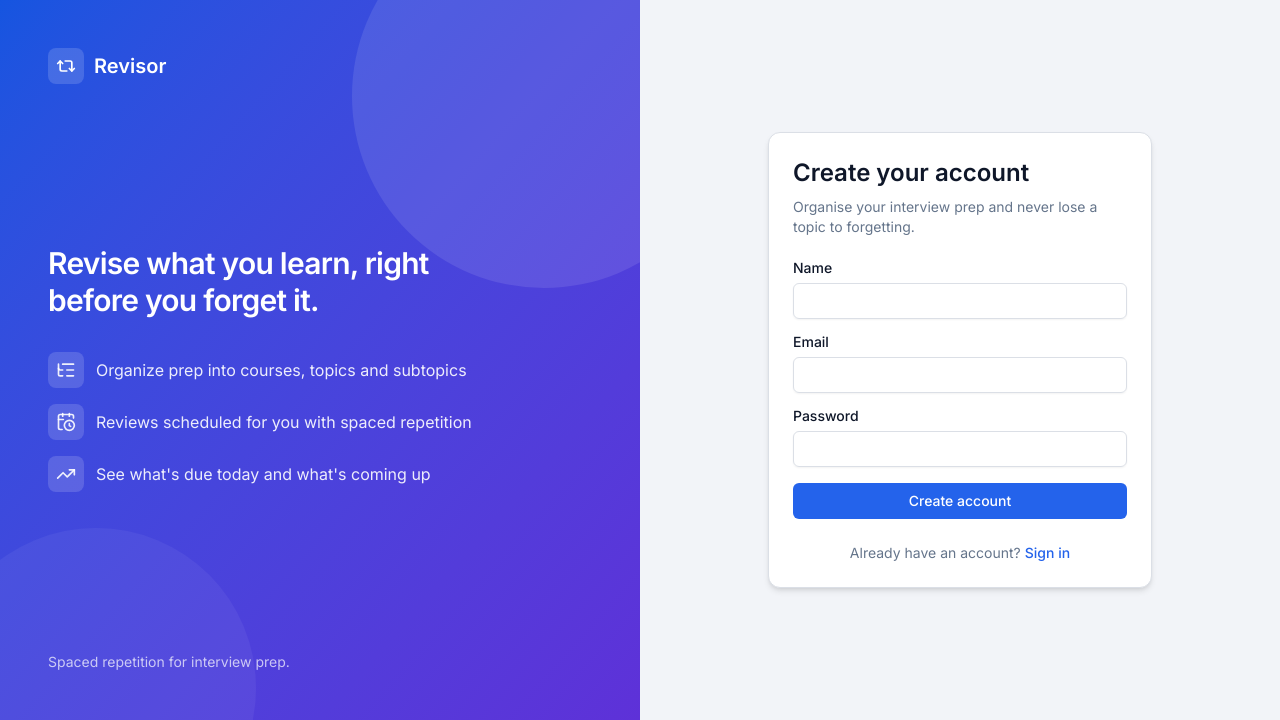
Test case: SignupPage › maps server-side validation errors onto their fields
In the field labelled "Name": point(960, 301) x1=793 y1=283 x2=1127 y2=319, type "Ann"
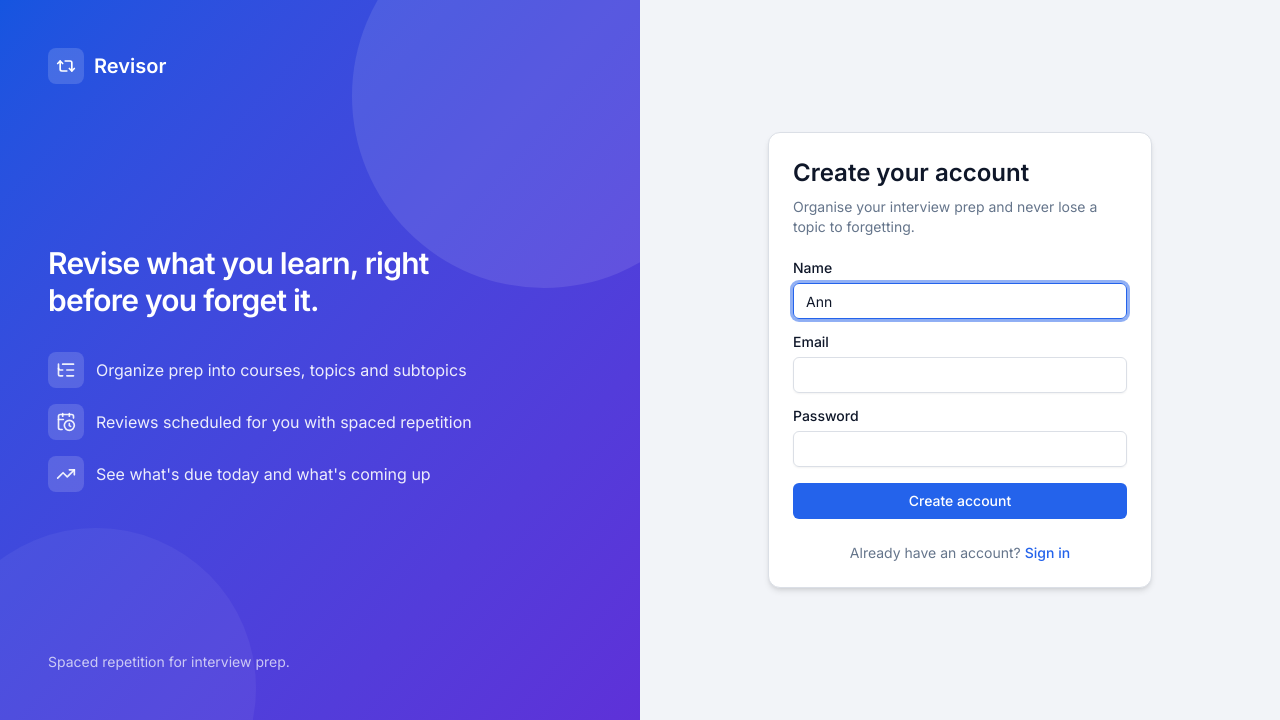
In the field labelled "Email": point(960, 375) x1=793 y1=357 x2=1127 y2=393, type "ann@example.com"
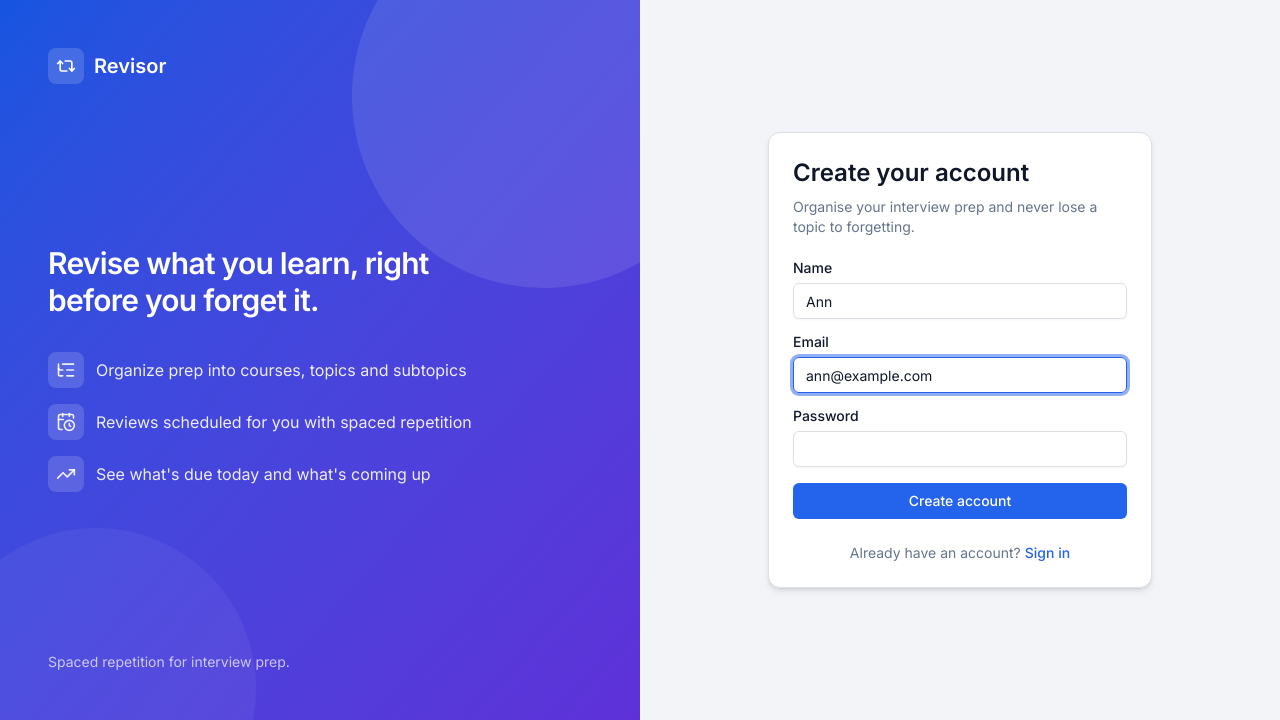
In the password field labelled "Password": point(960, 449) x1=793 y1=431 x2=1127 y2=467, type "correct-horse"
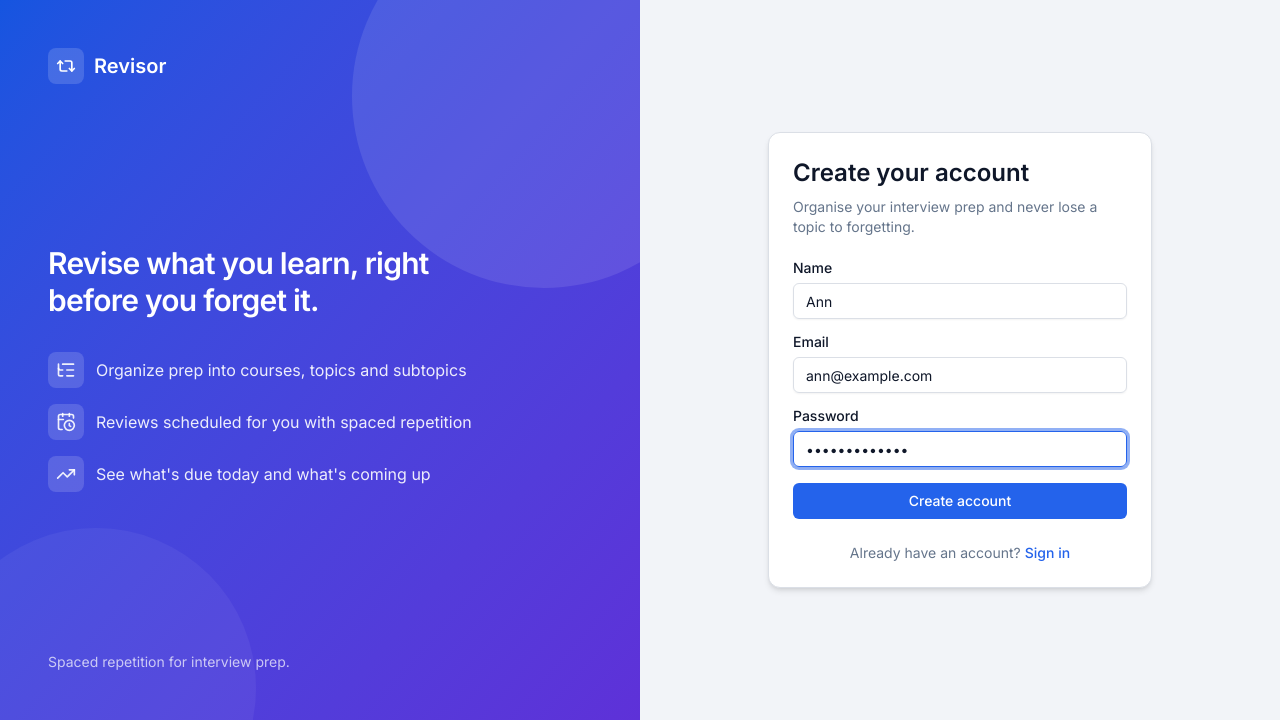
Click the button "Create account": point(960, 501) x1=793 y1=483 x2=1127 y2=519
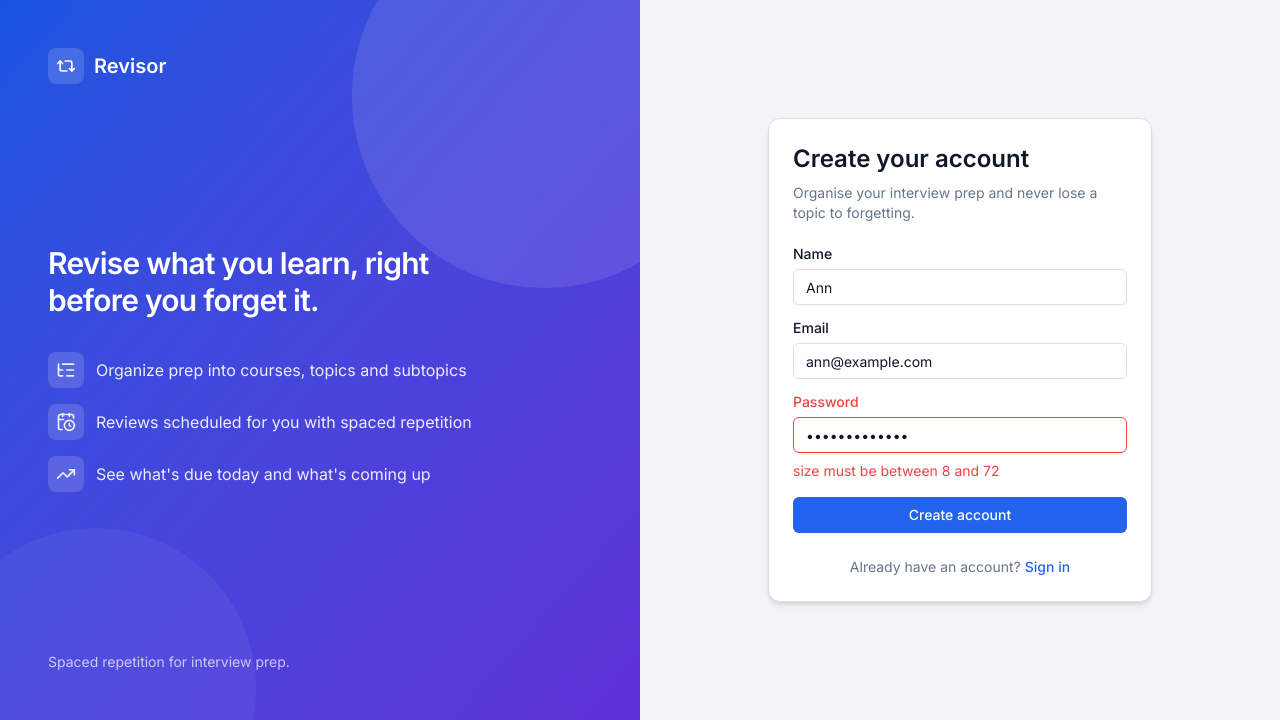
Result: the text "size must be between 8 and 72" is shown at x1=793 y1=462 x2=1000 y2=479
